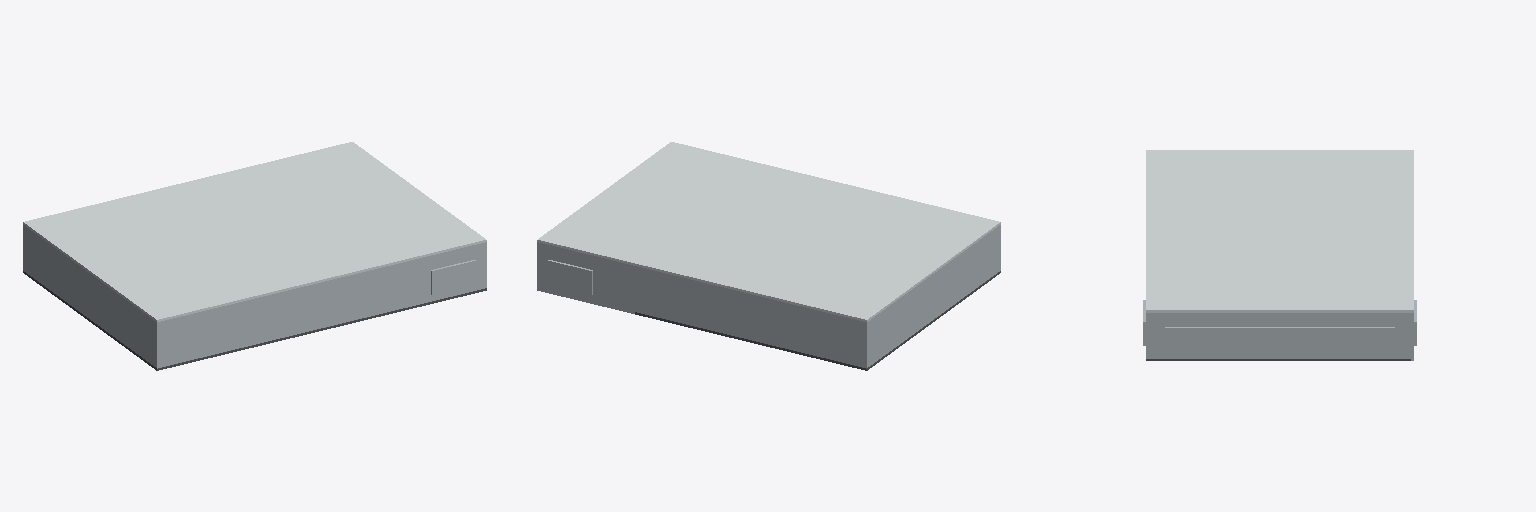
Rendered from space_base.obj.
The picture shows the model from 3 angles: view 1: azimuth 30°, elevation 25°; view 2: azimuth 150°, elevation 25°; view 3: azimuth 270°, elevation 25°; orthographic projection.
Visible parts, largest first — view 1: obj_0; view 2: obj_0; view 3: obj_0.
Boxes of the visible parts, <box> form: obj_0: <box>23,142,486,370</box>; obj_0: <box>537,142,1000,370</box>; obj_0: <box>1143,150,1416,360</box>.
Bounding box in the file's own units: 143 × 21 × 102.